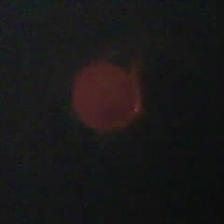fertile: (69, 59, 144, 138)
